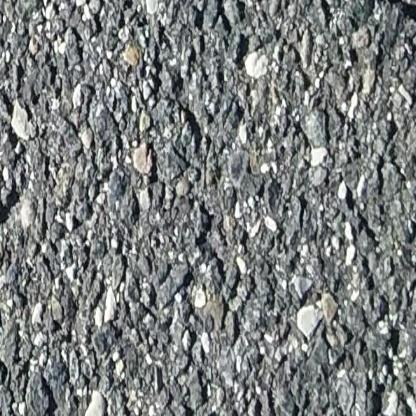Cracks: (342, 0, 416, 29)
